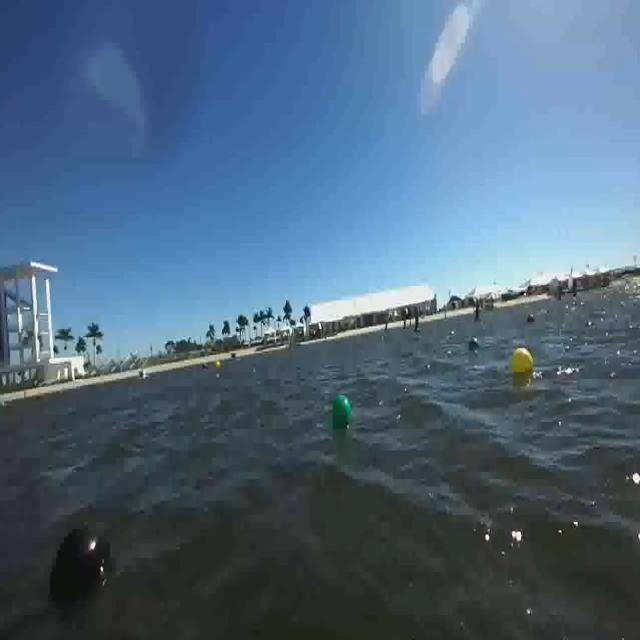green-buoy: (333, 396, 353, 430), (468, 336, 480, 350)
yellow-buoy: (510, 347, 532, 376), (215, 359, 222, 371)
